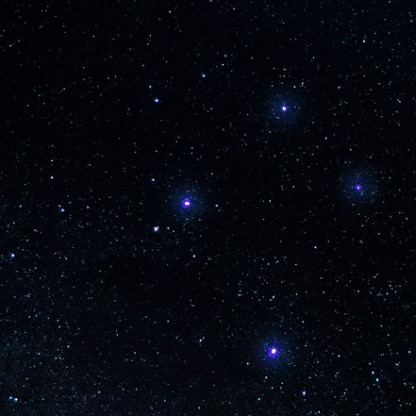Southern Cross: (258, 335, 286, 362), (269, 91, 293, 120), (174, 193, 201, 216), (348, 181, 371, 200)
